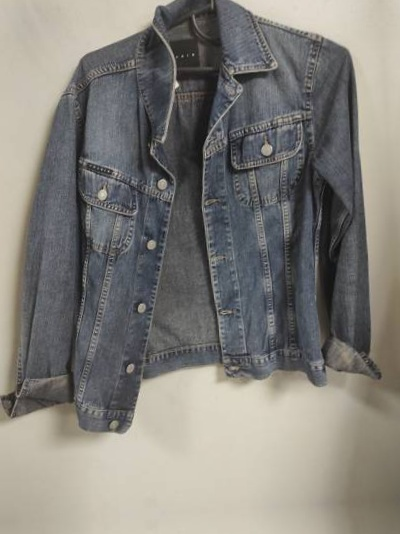Blazer: (0, 0, 387, 442), (398, 0, 400, 419)
